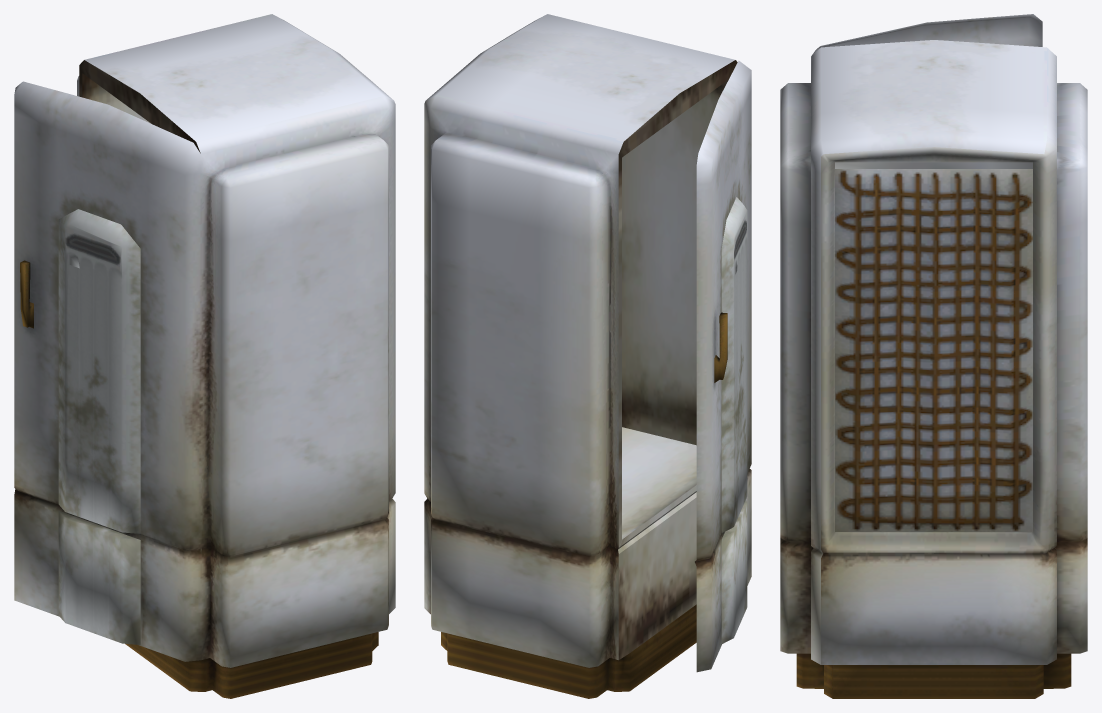
File: Fridge.obj
3 renders of one model, left to right at view 1: azimuth 30°, elevation 25°; view 2: azimuth 150°, elevation 25°; view 3: azimuth 270°, elevation 25°, orthographic.
Parts seen in each view (by area): view 1: fridge; view 2: fridge; view 3: fridge.
Boxes of the visible parts, x1,y1,x2,y2 form: fridge: (14, 14, 395, 698); fridge: (424, 14, 751, 698); fridge: (780, 14, 1087, 698).
Size of the model in its own units: 104 by 197 by 96.92.
Materials: 1 (1 with a texture image).
